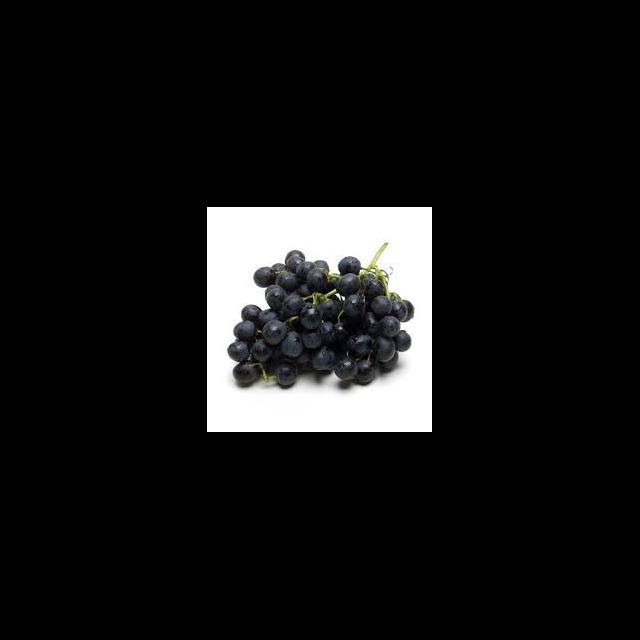grape: (228, 242, 414, 390)
